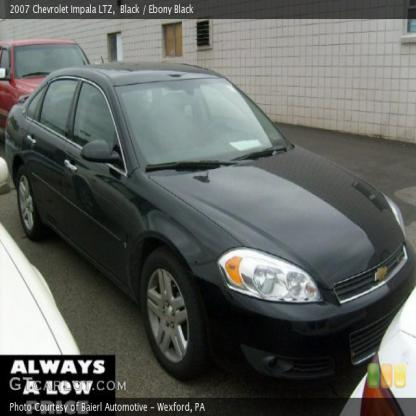Vehicle: (6, 63, 416, 402)
